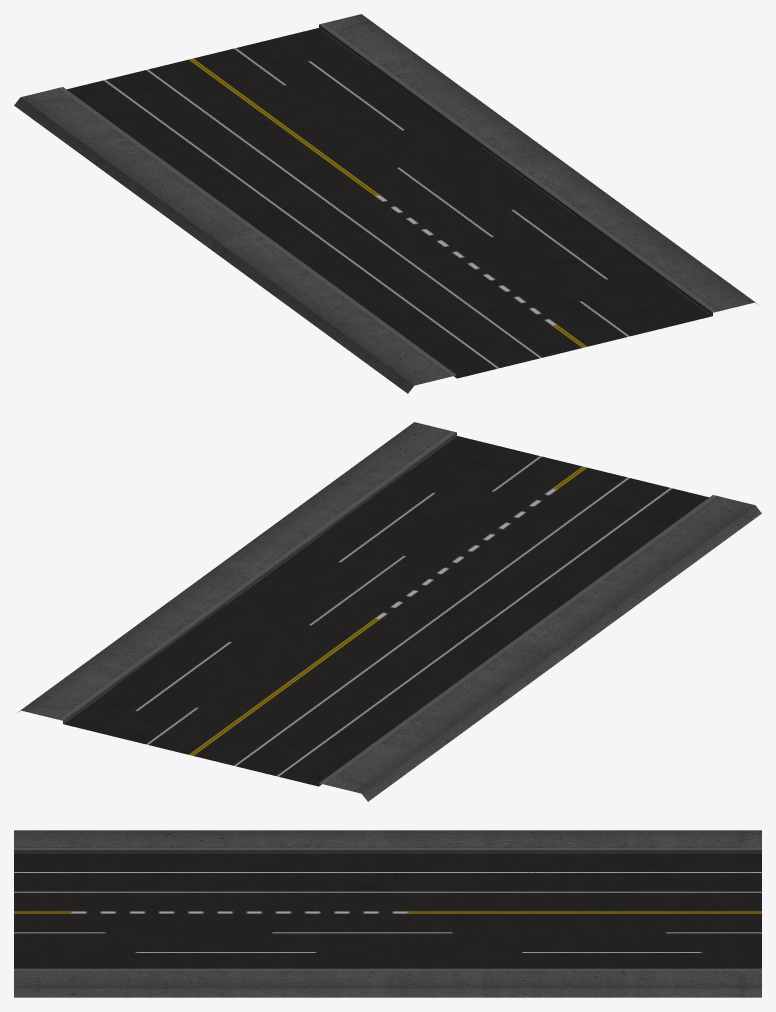
The model's file is RJs_Road 3+3 Basic Segment_UT.fbx.
3 views of the same model, one above another, from view 1: azimuth 30°, elevation 25°; view 2: azimuth 150°, elevation 25°; view 3: azimuth 270°, elevation 25° (orthographic). The views are drawn at different scales.
Parts seen in each view (by area): view 1: plane; view 2: plane; view 3: plane.
Boxes of the visible parts, x1,y1,x2,y2 form: plane: (14,14,757,393); plane: (18,422,761,801); plane: (14,830,761,997).
Size of the model in its own units: 3320 by 60.1 by 6400.
